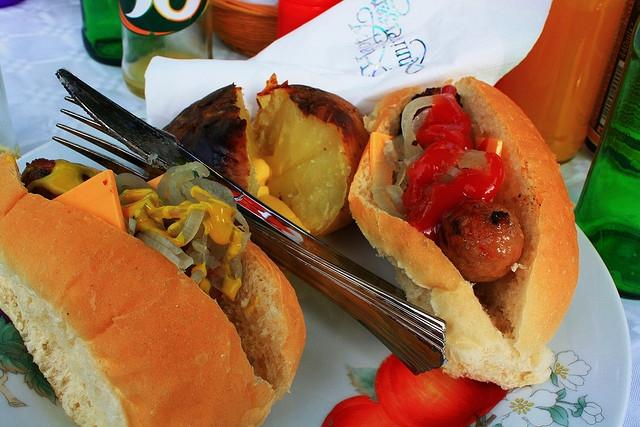apple: (375, 353, 509, 427), (322, 394, 398, 426)
bell pepper: (408, 151, 506, 232), (401, 124, 465, 208), (415, 84, 474, 150), (476, 137, 503, 158)
onion: (156, 161, 210, 206), (188, 177, 237, 223), (135, 232, 194, 270), (371, 162, 407, 220), (205, 188, 250, 233), (401, 96, 433, 156), (146, 199, 200, 219), (142, 229, 183, 255), (168, 170, 195, 206), (114, 173, 156, 195), (181, 209, 205, 246), (383, 138, 401, 172), (459, 149, 486, 169), (386, 185, 404, 214), (413, 107, 431, 135), (394, 163, 408, 186), (238, 232, 252, 254), (177, 184, 196, 200), (190, 269, 204, 285), (191, 253, 206, 265), (446, 166, 461, 178), (206, 260, 221, 270), (128, 218, 136, 236), (192, 241, 204, 253), (205, 254, 215, 267)
potato: (162, 73, 370, 238)
